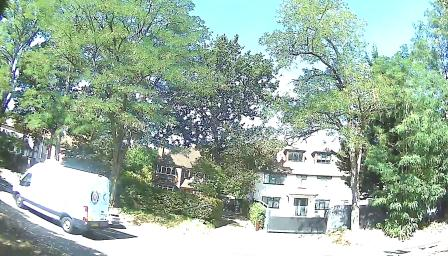Cars: (10, 147, 124, 231), (90, 194, 128, 229)
